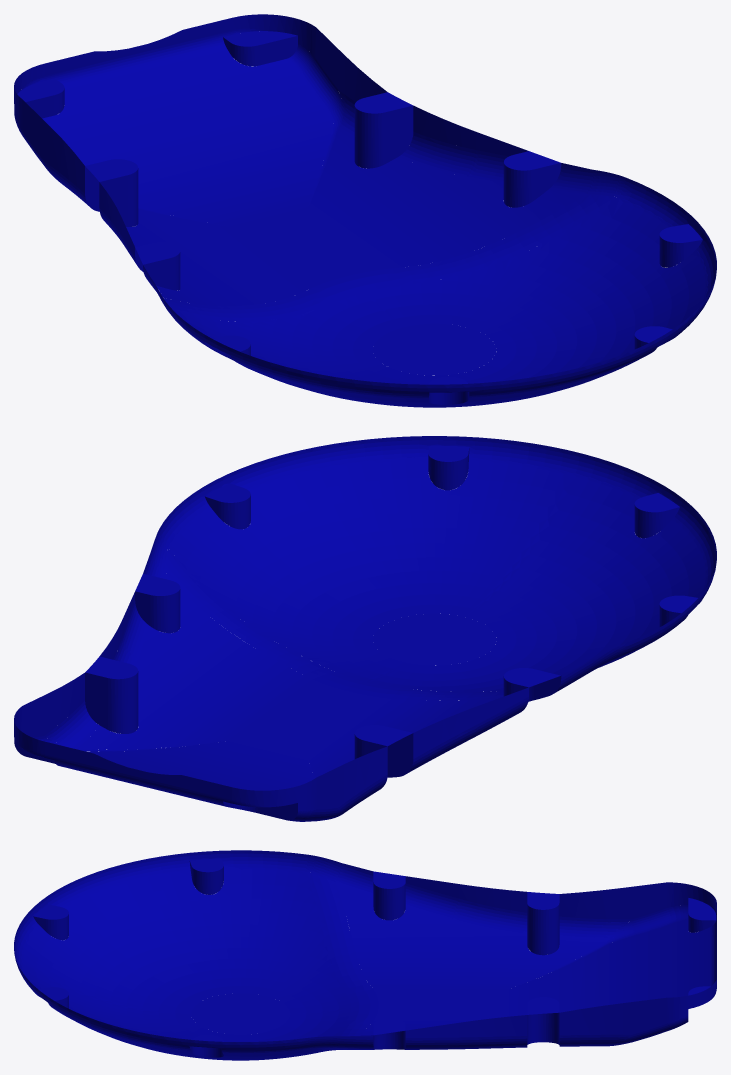
The model's file is cover.dae.
The picture shows the model from 3 angles, top to bottom: view 1: azimuth 30°, elevation 25°; view 2: azimuth 150°, elevation 25°; view 3: azimuth 270°, elevation 25°; orthographic projection. The views are drawn at different scales.
Parts seen in each view (by area): view 1: Cover; view 2: Cover; view 3: Cover.
Part boxes in pixels (bbox=[...]): Cover: bbox=[14, 14, 716, 407]; Cover: bbox=[14, 436, 716, 821]; Cover: bbox=[14, 850, 716, 1060].
Size of the model in its own units: 0.1829 by 0.2835 by 0.033.
